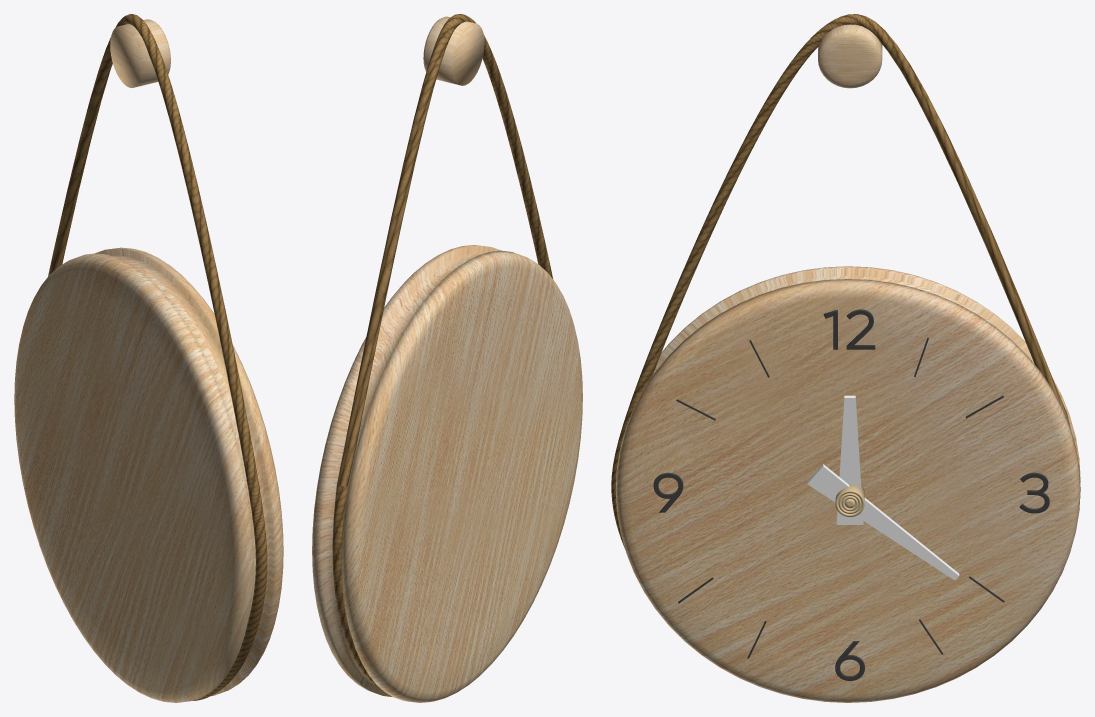
Rendered from clock.glb.
The picture shows the model from 3 angles, left to right: view 1: azimuth 30°, elevation 25°; view 2: azimuth 150°, elevation 25°; view 3: azimuth 270°, elevation 25°; orthographic projection.
Visible parts, largest first — view 1: Cylinder, NurbsPath, Cylinder.002; view 2: Cylinder, NurbsPath, Cylinder.002; view 3: Cylinder, NurbsPath, Cylinder.002, Plane.002, Plane.001, Plane, Cylinder.001, Text.002.
Boxes of the visible parts, x1,y1,x2,y2 form: Cylinder: (14, 247, 283, 702); NurbsPath: (48, 14, 267, 700); Cylinder.002: (110, 19, 170, 87); Cylinder: (312, 245, 582, 702); NurbsPath: (332, 14, 553, 688); Cylinder.002: (423, 16, 484, 85); Cylinder: (615, 266, 1080, 702); NurbsPath: (611, 14, 1070, 549); Cylinder.002: (818, 24, 882, 88); Plane.002: (807, 464, 959, 580); Plane.001: (836, 395, 863, 524); Plane: (676, 337, 1004, 658); Cylinder.001: (835, 484, 864, 517); Text.002: (823, 309, 875, 349).
Size of the model in its own units: 0.0718 by 0.6374 by 0.4011.
6 materials, 3 textured.
